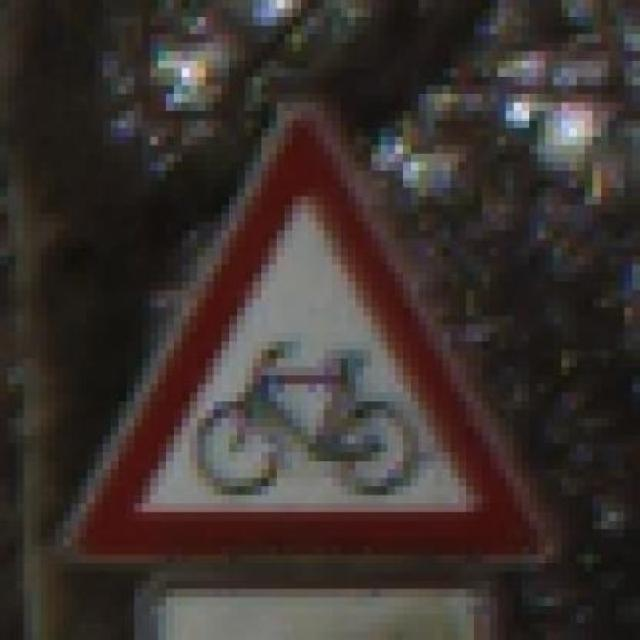CYCLE ROUTE AHEAD WARNING: (39, 103, 561, 580)
